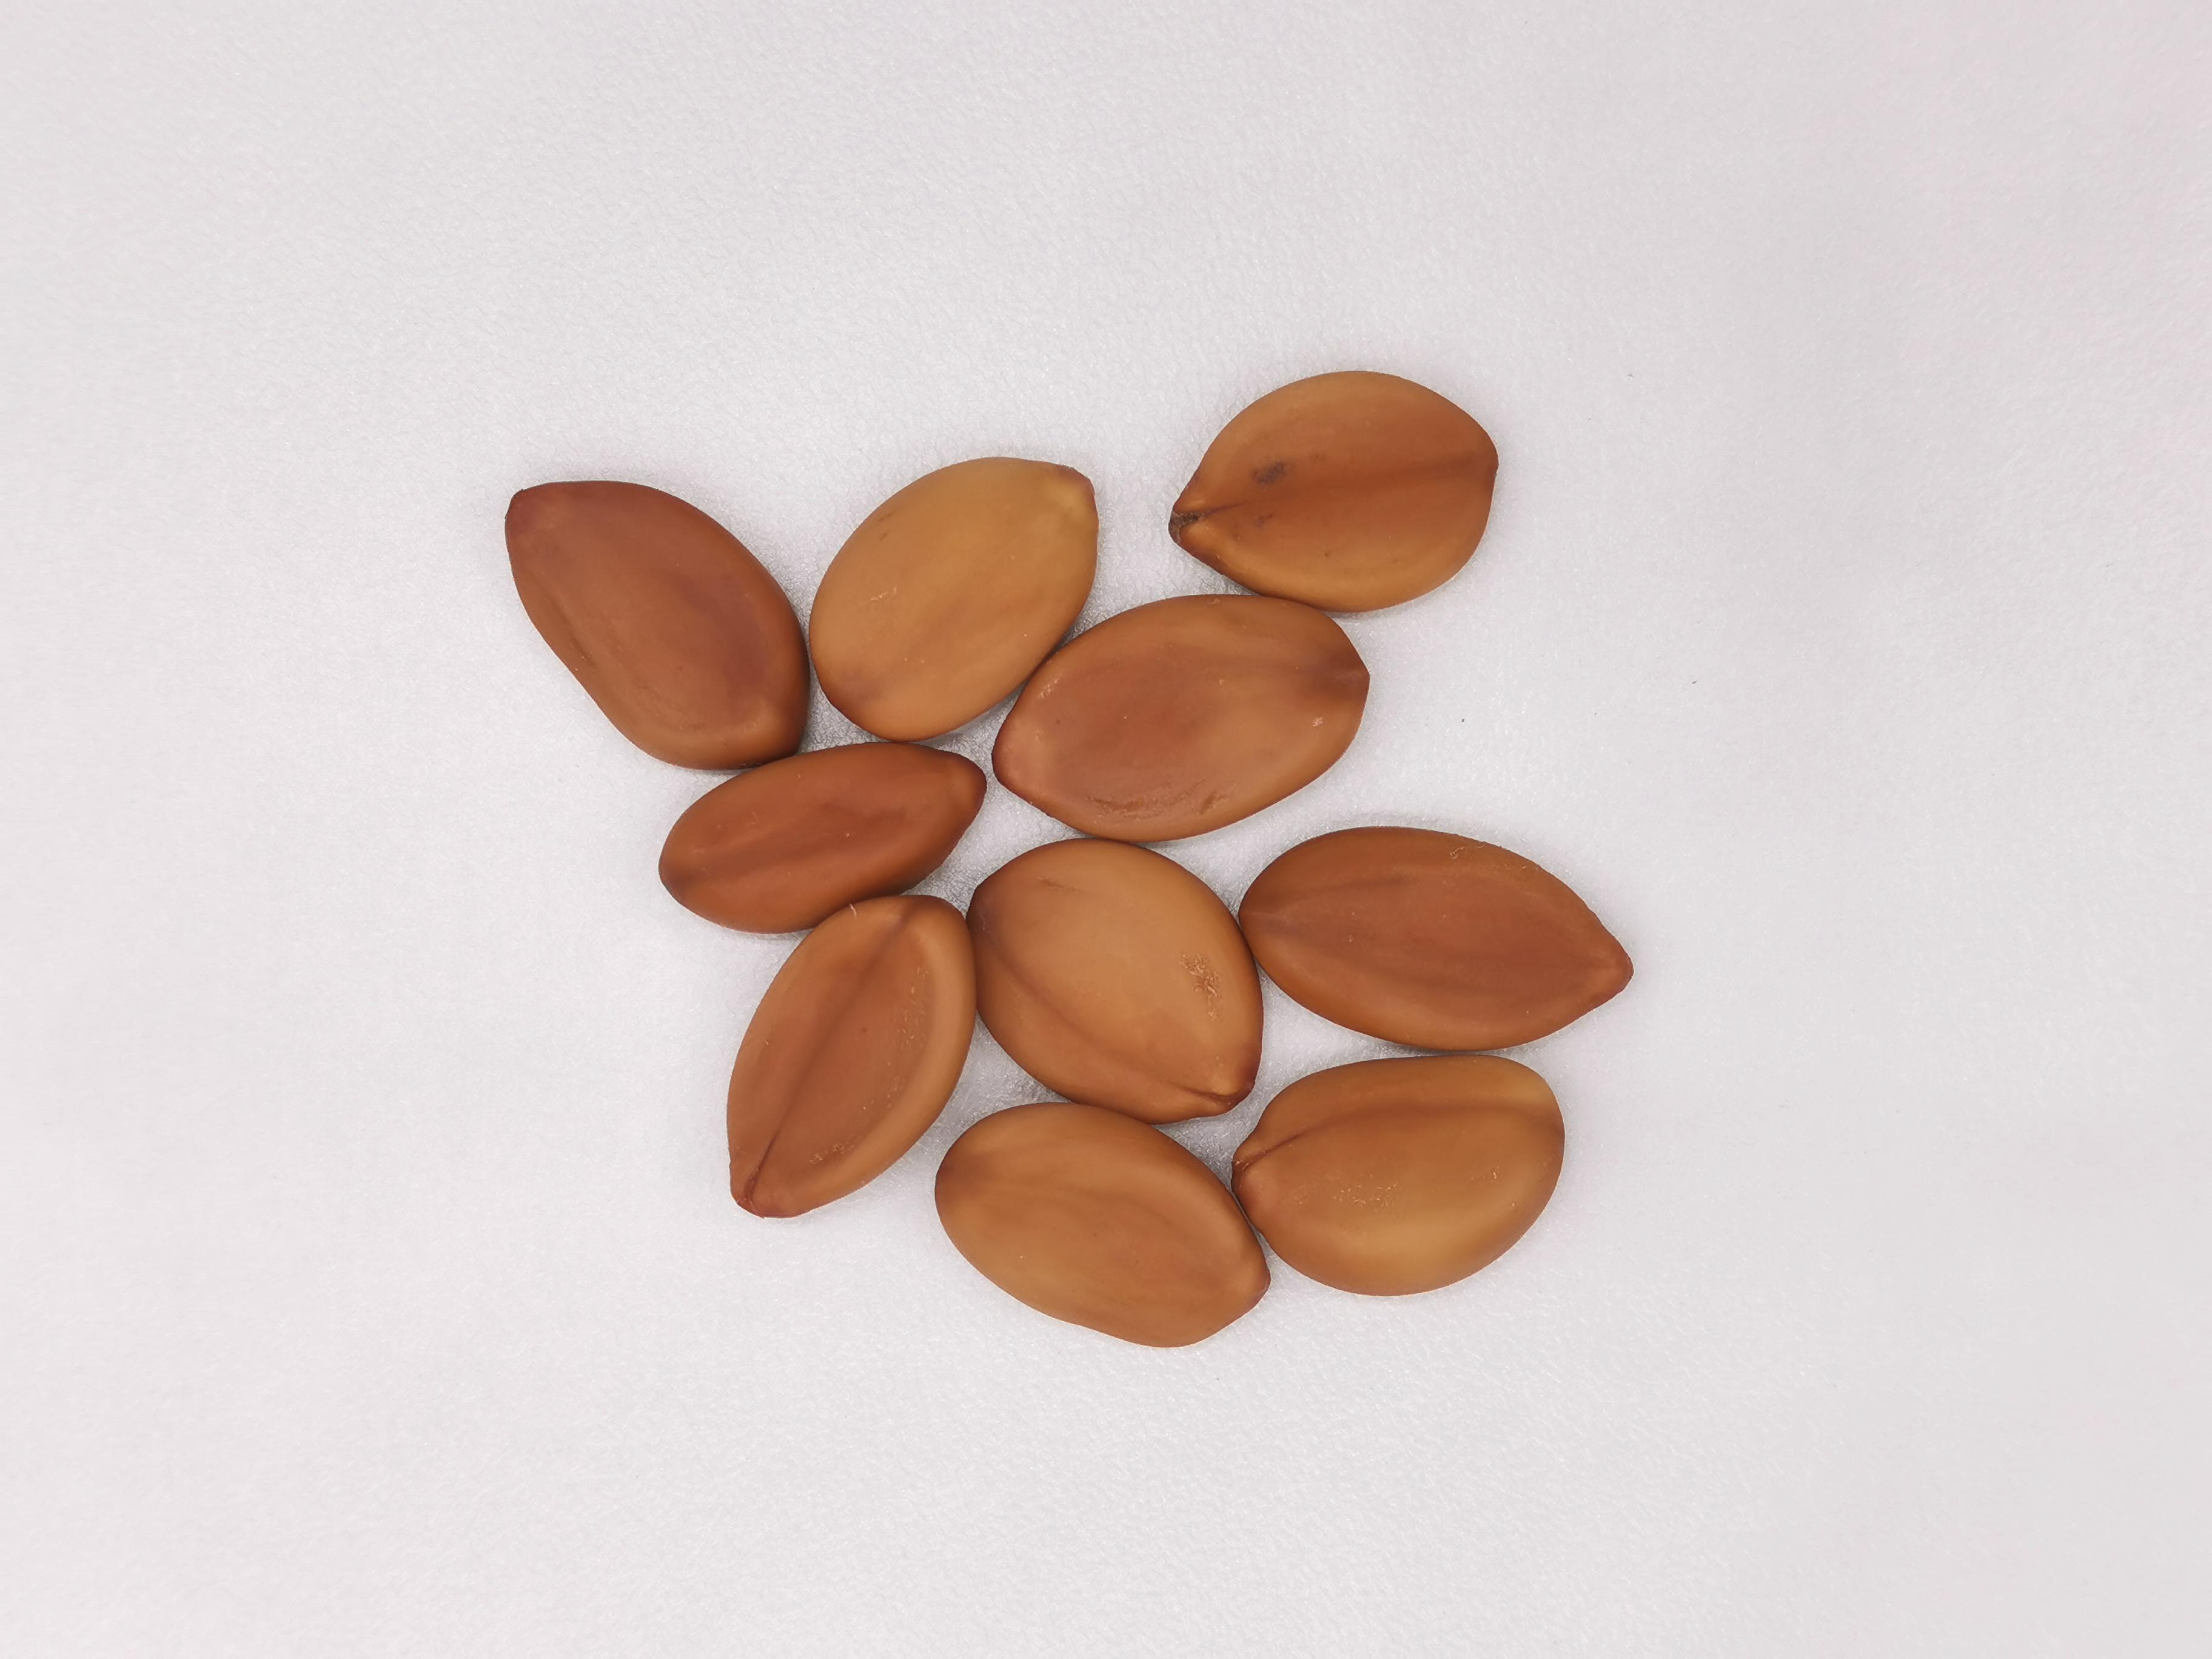seed: (993, 592, 1372, 842), (1238, 821, 1639, 1049), (503, 476, 812, 772), (932, 1103, 1271, 1347), (970, 840, 1263, 1121), (806, 451, 1096, 734), (1167, 369, 1498, 612), (1233, 1054, 1566, 1295), (725, 896, 974, 1216), (658, 741, 986, 929)
